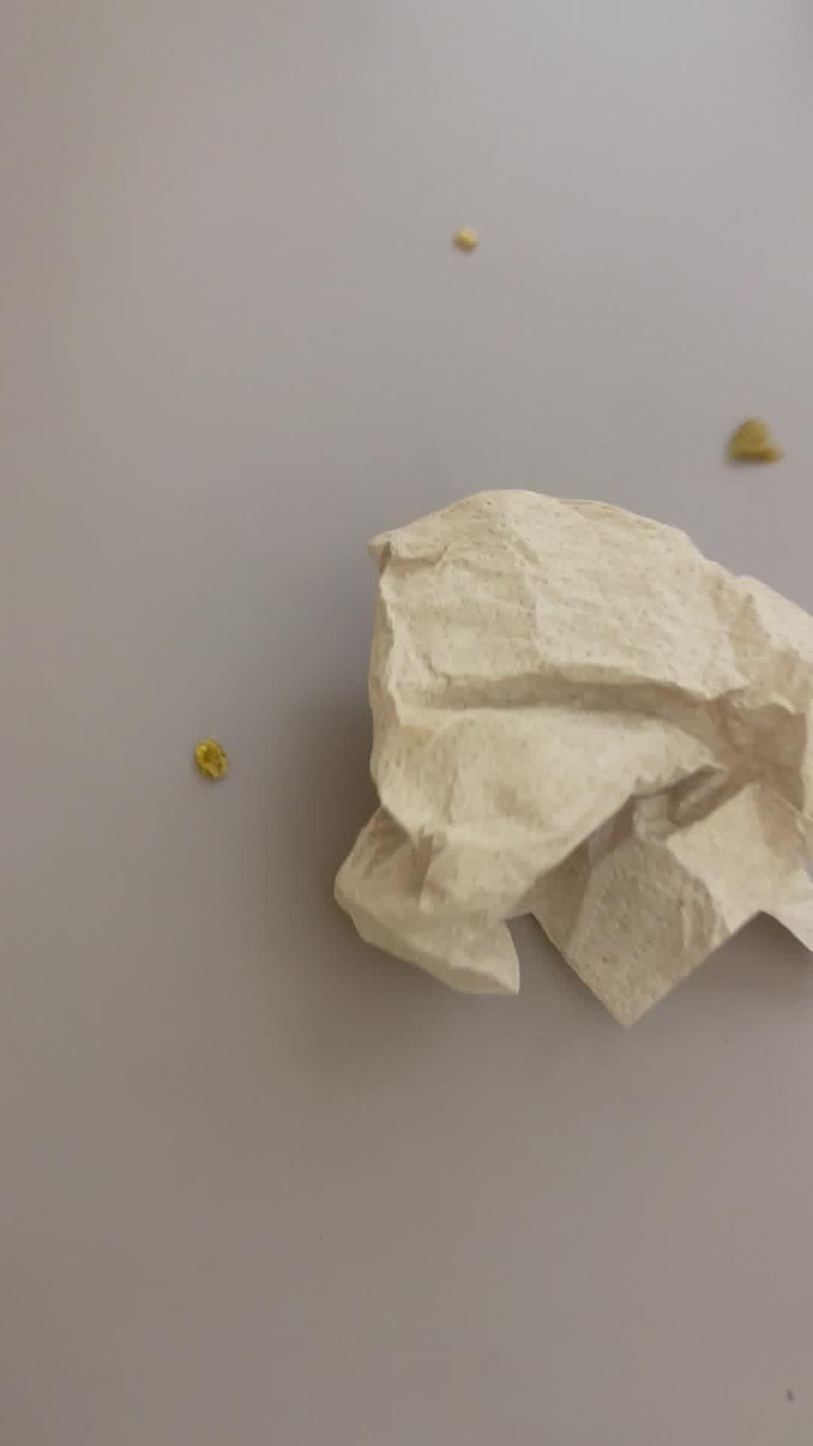napkin: (334, 486, 808, 1014)
